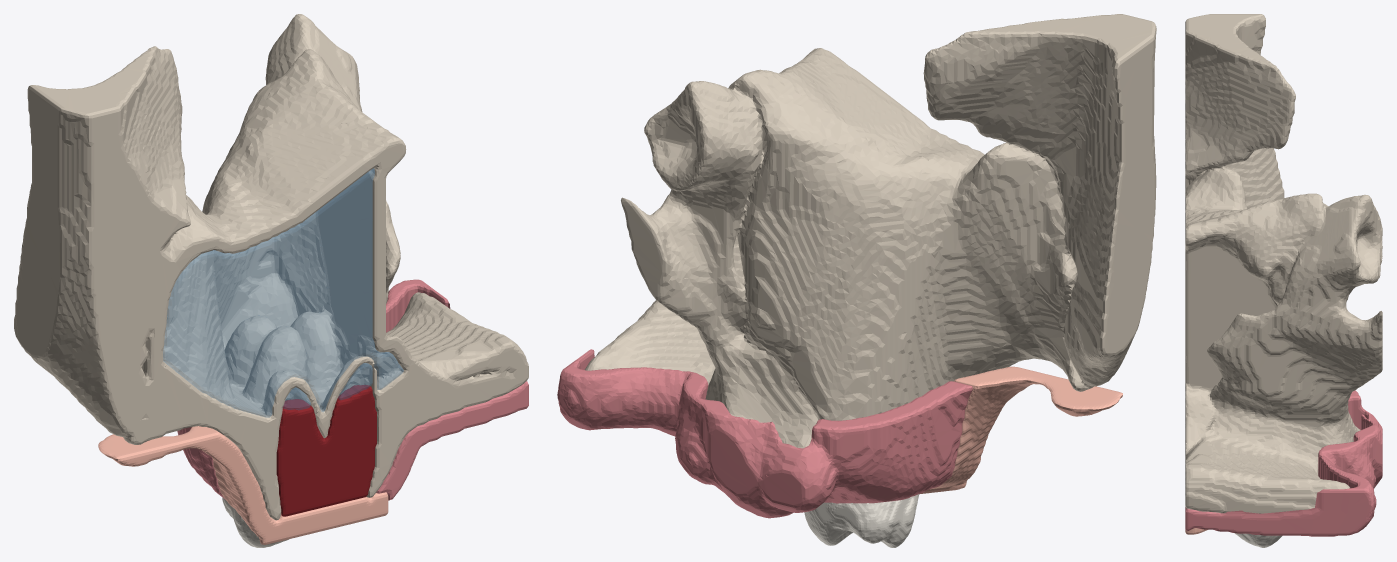
File: flap.glb
3 views of the same model, side by side, from view 1: azimuth 30°, elevation 25°; view 2: azimuth 150°, elevation 25°; view 3: azimuth 270°, elevation 25° (orthographic). The views are drawn at different scales.
Parts seen in each view (by area): view 1: bone, sinus, clot, flap, gum, teeth; view 2: bone, gum, flap, teeth; view 3: bone, gum, teeth.
Part boxes in pixels (bbox=[...]): bone: bbox=[14, 14, 528, 520]; sinus: bbox=[163, 168, 403, 417]; clot: bbox=[276, 385, 376, 516]; flap: bbox=[98, 426, 388, 544]; gum: bbox=[177, 279, 528, 500]; teeth: bbox=[222, 497, 288, 547]; bone: bbox=[585, 14, 1156, 448]; gum: bbox=[557, 349, 972, 518]; flap: bbox=[919, 366, 1122, 494]; teeth: bbox=[804, 494, 919, 547]; bone: bbox=[1185, 14, 1382, 513]; gum: bbox=[1185, 390, 1382, 536]; teeth: bbox=[1234, 533, 1282, 547].
Size of the model in its own units: 0.051 by 0.0547 by 0.023.
